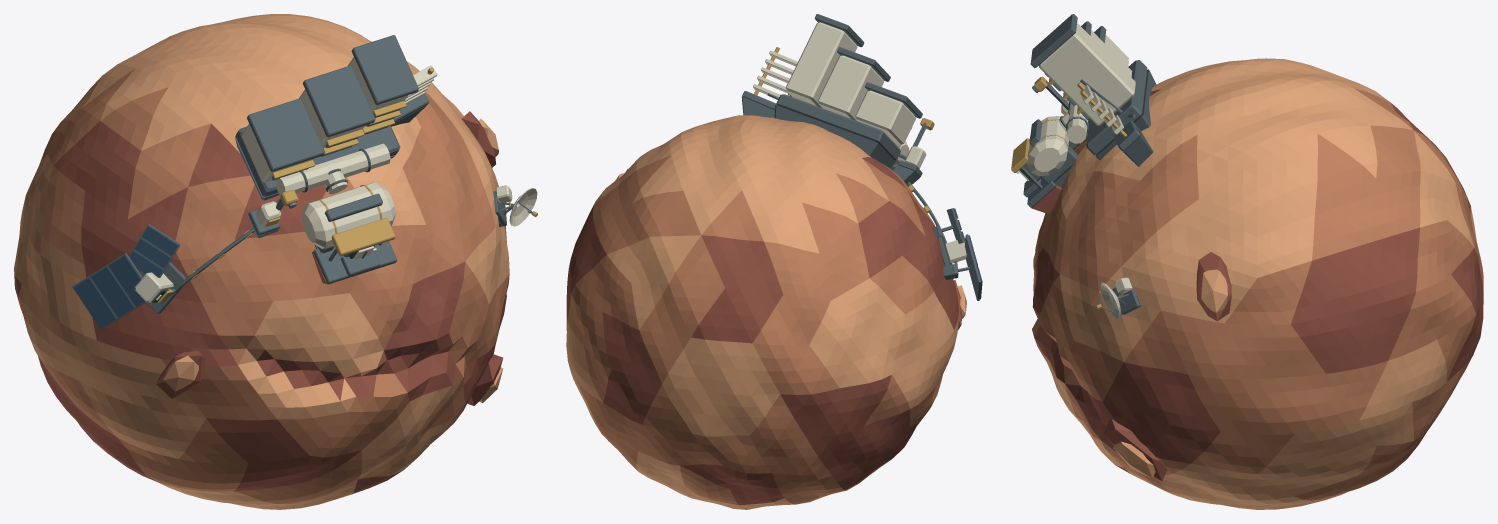
The model's file is Mars.glb.
The picture shows the model from 3 angles, left to right: view 1: azimuth 30°, elevation 25°; view 2: azimuth 150°, elevation 25°; view 3: azimuth 270°, elevation 25°; orthographic projection. The views are drawn at different scales.
Parts seen in each view (by area): view 1: S1_Mars • modeled surfaces; view 2: S1_Mars • modeled surfaces; view 3: S1_Mars • modeled surfaces.
Part boxes in pixels (left/top/right/bottom): S1_Mars • modeled surfaces: left=14, top=14, right=537, bottom=509; S1_Mars • modeled surfaces: left=566, top=14, right=982, bottom=509; S1_Mars • modeled surfaces: left=1011, top=14, right=1483, bottom=509.
Size of the model in its own units: 1.73 by 1.93 by 1.73.
